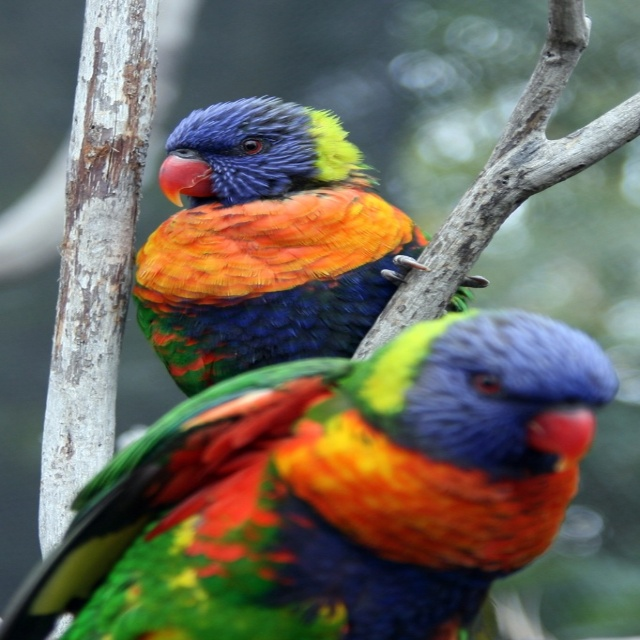Parrot: (0, 306, 620, 640)
